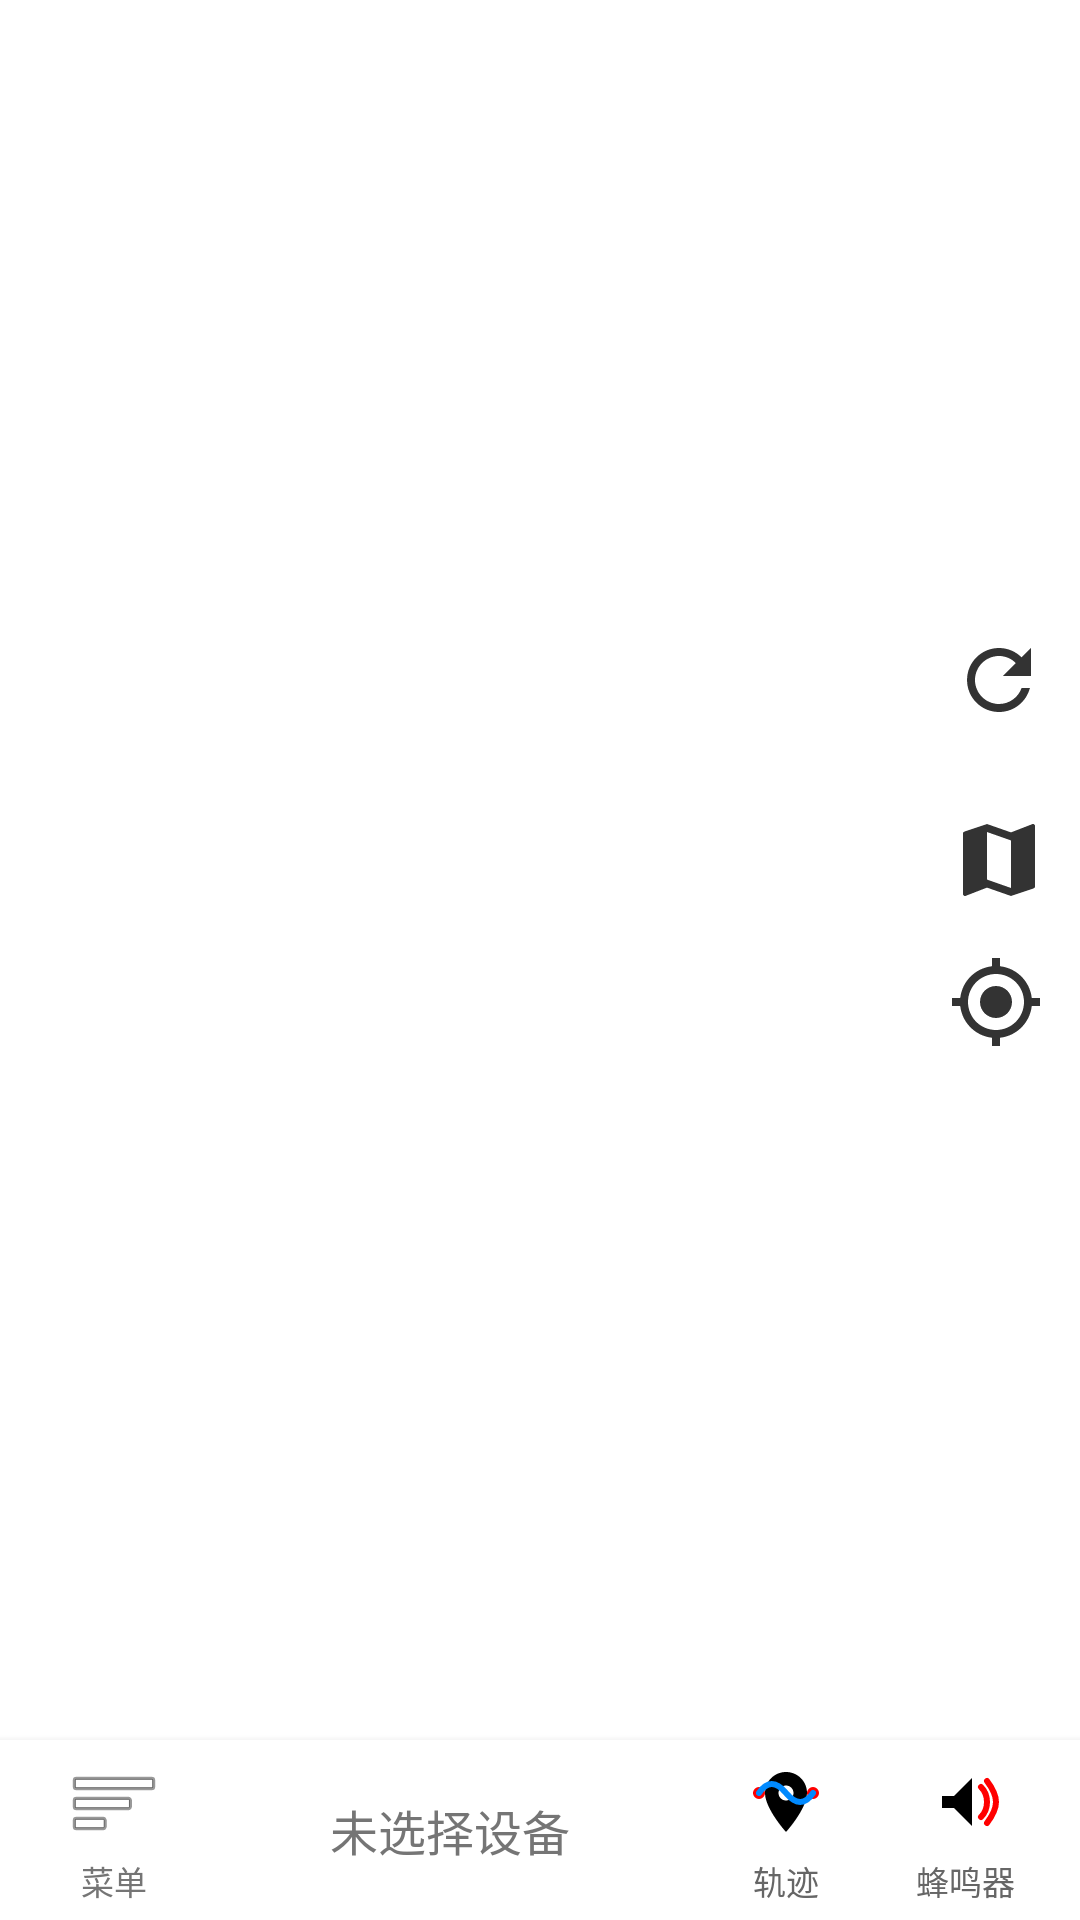

Named icons in this screenshot (1080px x 1920px) and their centers, (x,y):
locate: (996,1002)
map type: (999,860)
refresh: (999,680)
sort by size: (114,1803)
